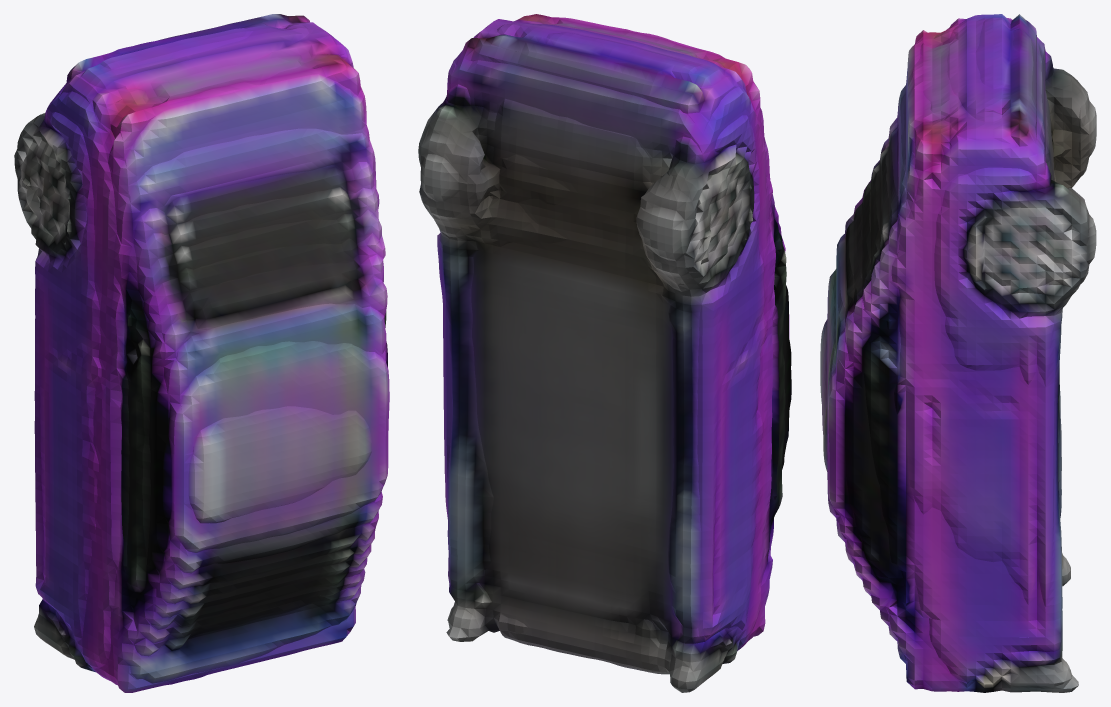
3 views of the same model, side by side, from view 1: azimuth 30°, elevation 25°; view 2: azimuth 150°, elevation 25°; view 3: azimuth 270°, elevation 25° (orthographic). The views are drawn at different scales.
Parts seen in each view (by area): view 1: world; view 2: world; view 3: world.
Boxes of the visible parts, x1,y1,x2,y2 form: world: (14, 14, 389, 692); world: (418, 14, 791, 692); world: (820, 14, 1096, 692).
Size of the model in its own units: 0.5097 by 1.01 by 0.434.
